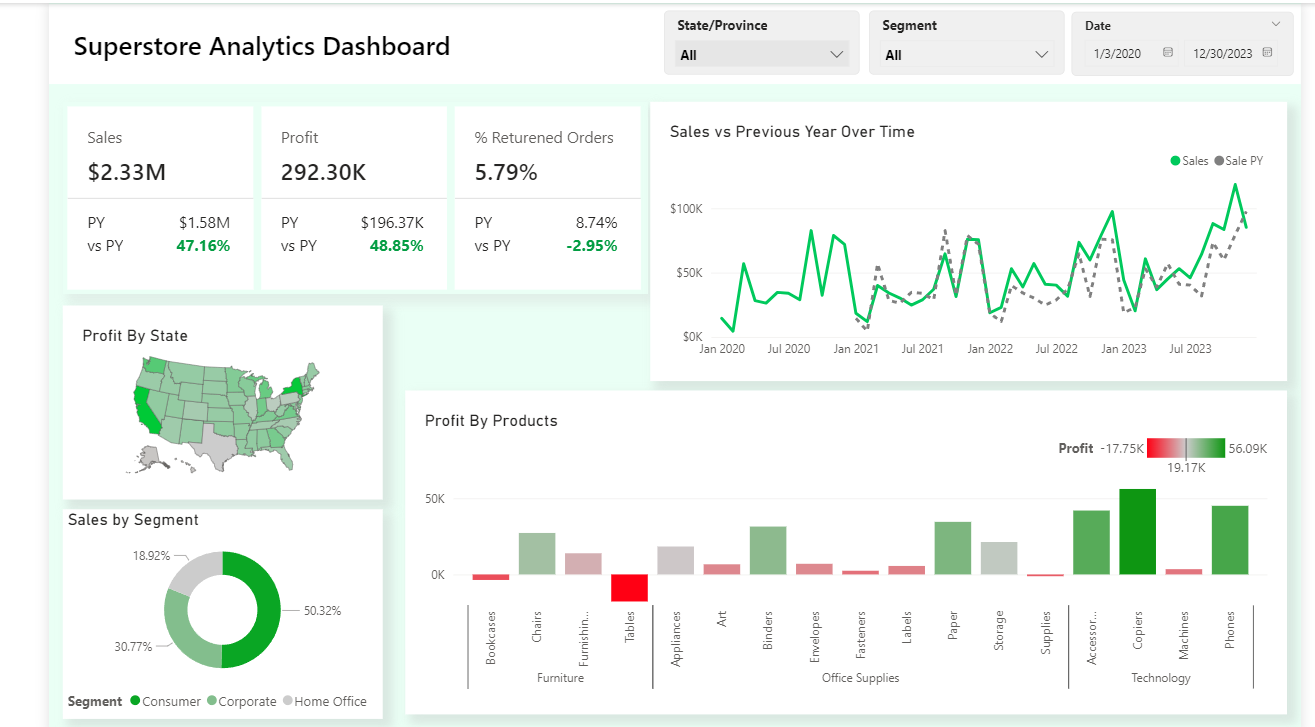

What the dashboard file says about the page in this screenshot:
{"tool":"powerbi","page":{"name":"Page 1","canvas":[1280,750],"ordinal":0},"visuals":[{"type":"slicer","fields":{"Values":["Orders.State/Province"]},"box":[628.3,8.2,200,65.3],"z":0,"group":"g1"},{"type":"cardVisual","fields":{"Data":["Key Measures.Sales","Key Measures.Profit","Key Measures.% Returened Orders"]},"box":[14.3,101.4,598.6,197.1],"z":0},{"type":"slicer","fields":{"Values":["Orders.Segment"]},"box":[837.4,8.2,200,65.3],"z":1000,"group":"g1"},{"type":"shape","box":[0,0.9,1280,81.8],"z":1000},{"type":"slicer","fields":{"Values":["Date Table.Date"]},"box":[1044.7,9.3,227.3,65.3],"z":2000,"group":"g1"},{"type":"lineChart","title":"Sales vs Previous Year Over Time","fields":{"Y":["Key Measures.Sales","Key Measures.Sale PY"],"Category":["Date Table.Start of month"]},"box":[614.3,101.4,651.4,285.7],"z":2000},{"type":"columnChart","title":"Profit By Products","fields":{"Category":["Orders.Category","Orders.Sub-Category"],"Y":["Key Measures.Profit"]},"box":[364.3,395.7,901.4,331.4],"z":3000},{"type":"shapeMap","title":"Profit By State","fields":{"Value":["Key Measures.Profit"],"Category":["Orders.State/Province"]},"box":[14.2,308.7,327,198],"z":4000},{"type":"donutChart","fields":{"Category":["Orders.Segment"],"Y":["Key Measures.Sales"]},"box":[14.6,517.1,326.9,214.6],"z":5000},{"type":"group","id":"g1","title":"Group 1","box":[628.3,8.2,643.6,65.5],"z":6004}]}

Visuals, with their boxes on the page's 1280x750 design canvas (x1, y1, x2, y2). These are canvas units, not pixel positions in the 1315x727 screenshot, which may show the page scaled, cropped or inside an application window:
slicer - Orders.State/Province: (left=628, top=8, right=828, bottom=74)
cardVisual - Key Measures.Sales x Key Measures.Profit: (left=14, top=101, right=613, bottom=298)
slicer - Orders.Segment: (left=837, top=8, right=1037, bottom=74)
shape: (left=0, top=1, right=1280, bottom=83)
slicer - Date Table.Date: (left=1045, top=9, right=1272, bottom=75)
"Sales vs Previous Year Over Time" lineChart: (left=614, top=101, right=1266, bottom=387)
"Profit By Products" columnChart: (left=364, top=396, right=1266, bottom=727)
"Profit By State" shapeMap: (left=14, top=309, right=341, bottom=507)
donutChart - Orders.Segment x Key Measures.Sales: (left=15, top=517, right=342, bottom=732)
"Group 1" group: (left=628, top=8, right=1272, bottom=74)
